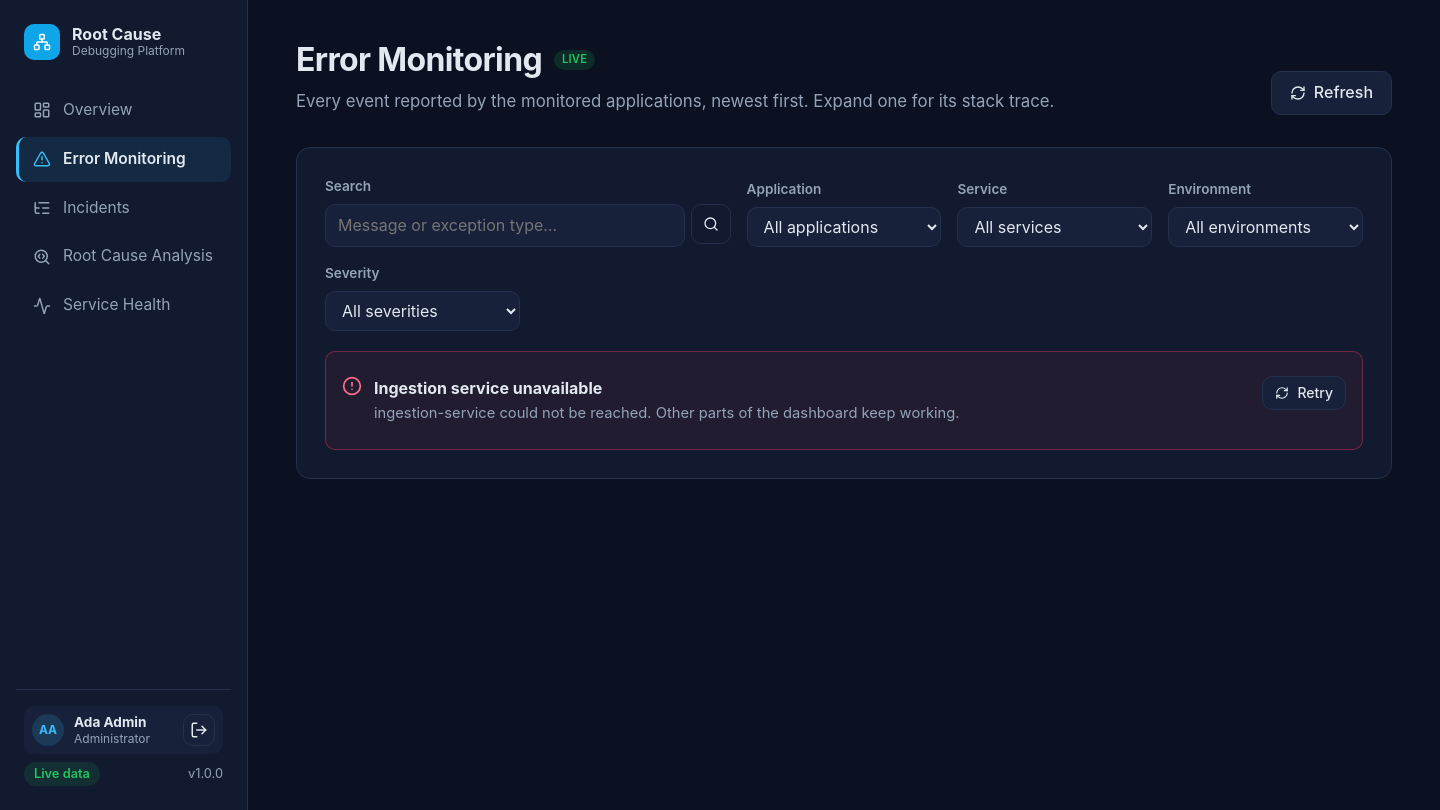
it: ErrorMonitoringPage › explains when the ingestion service is unavailable and retries
Expected: the message shows "Ingestion service unavailable", [374,378,602,398]
Click the button "Retry": (1304,393) [1262,376,1346,410]
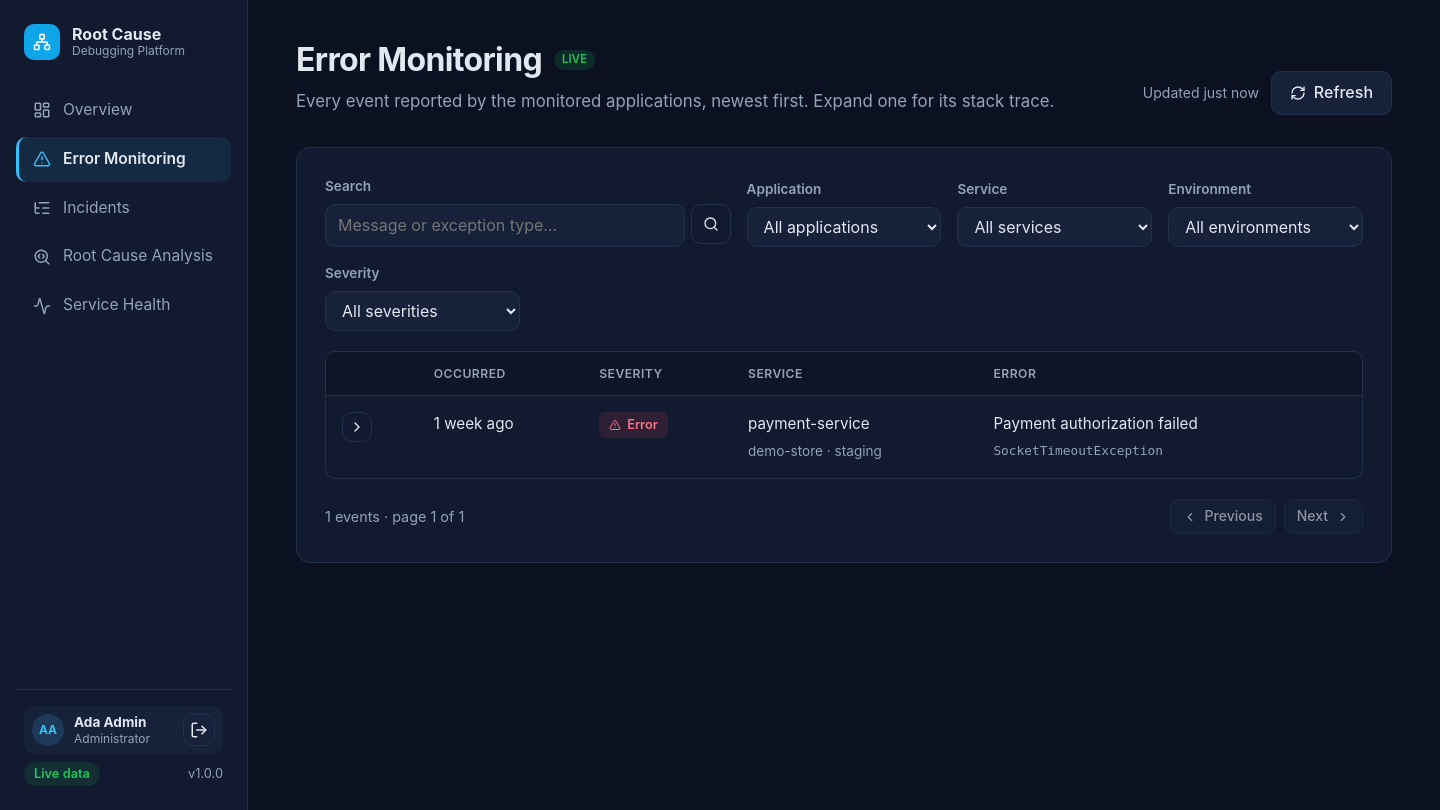
Expected: the table is shown, [326,352,1362,478]
